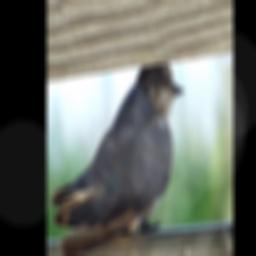Swallow: (50, 61, 184, 256)
